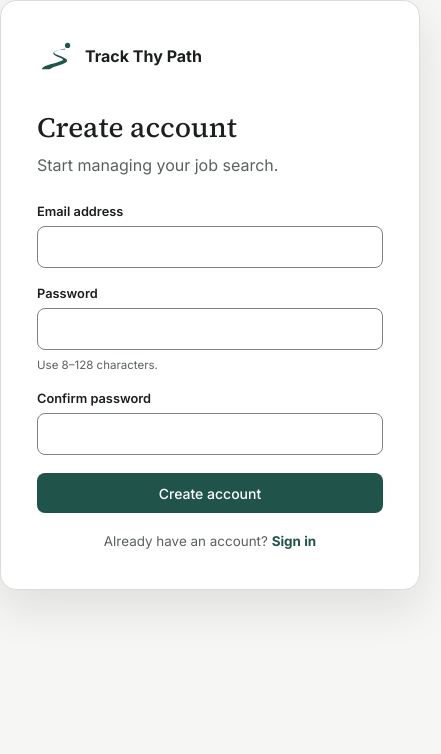
Scenario: RegisterForm › associates a missing confirmation error with the confirmation input
The image size is (441, 754).
In the field labelled "Email address": (210, 247) [37,226,383,268], type "new@example.invalid"
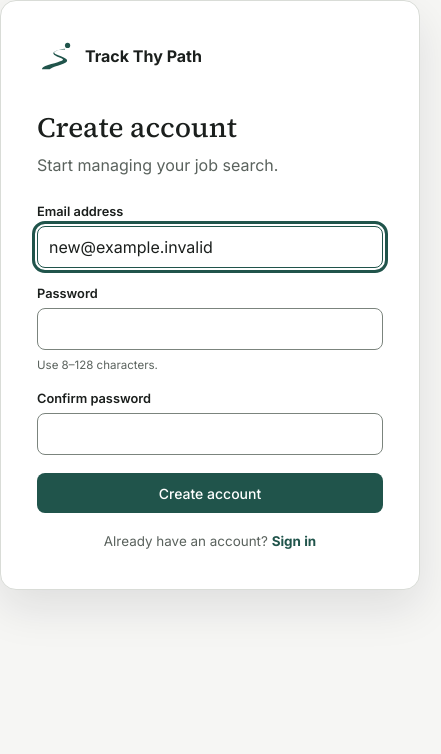
In the password field labelled "Password": (210, 329) [37,308,383,350], type "password123"
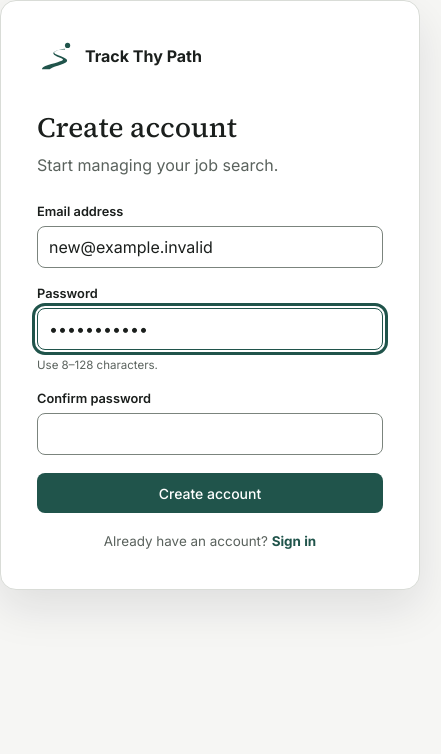
Click the button "Create account": (210, 493) [37,473,383,513]
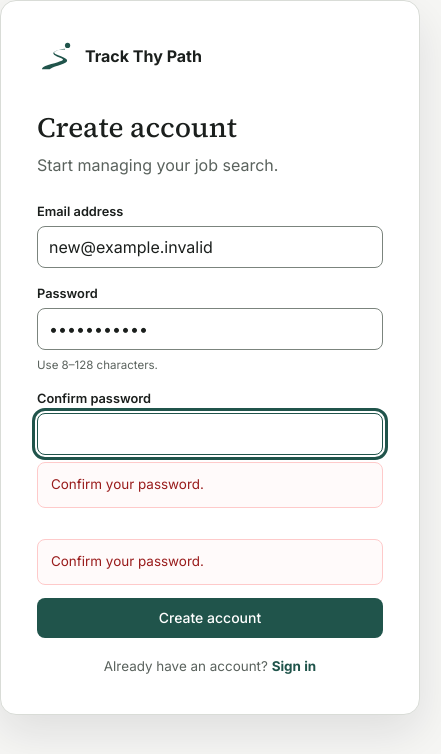
Check: the message reads "Confirm your password.", box [51,553,204,569]
Check: the text "Confirm your password." is shown, box [37,462,383,508]
